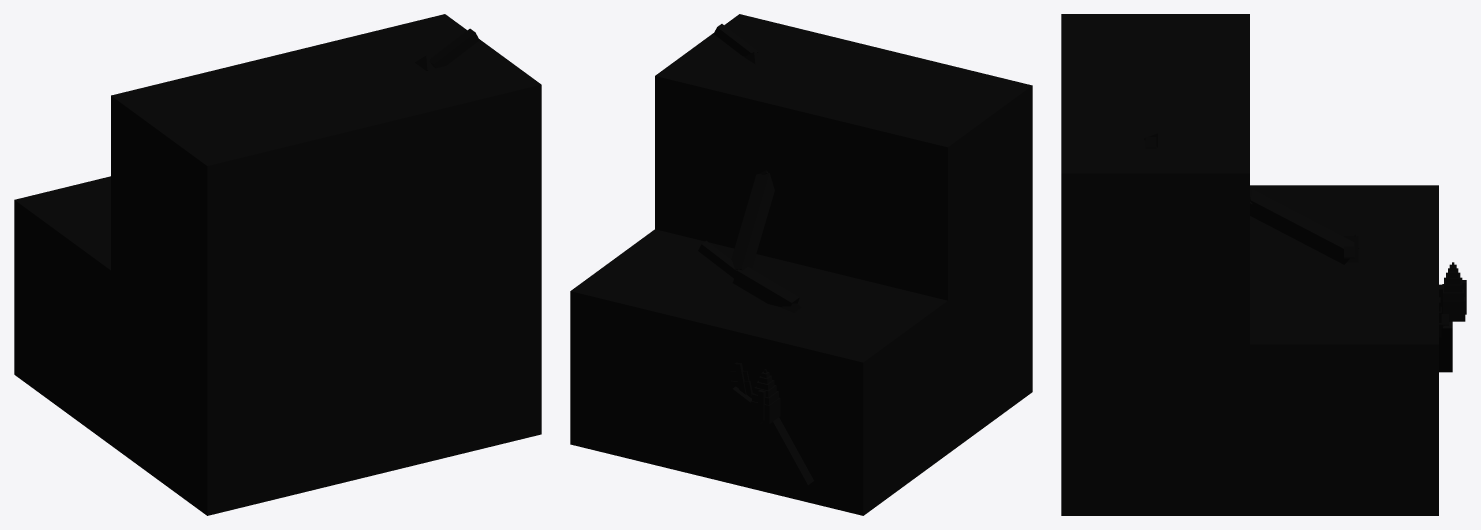
The model's file is lab_stair_eroded.obj.
The picture shows the model from 3 angles, left to right: view 1: azimuth 30°, elevation 25°; view 2: azimuth 150°, elevation 25°; view 3: azimuth 270°, elevation 25°; orthographic projection. The views are drawn at different scales.
Size of the model in its own units: 0.8139 by 0.875 by 0.8735.
